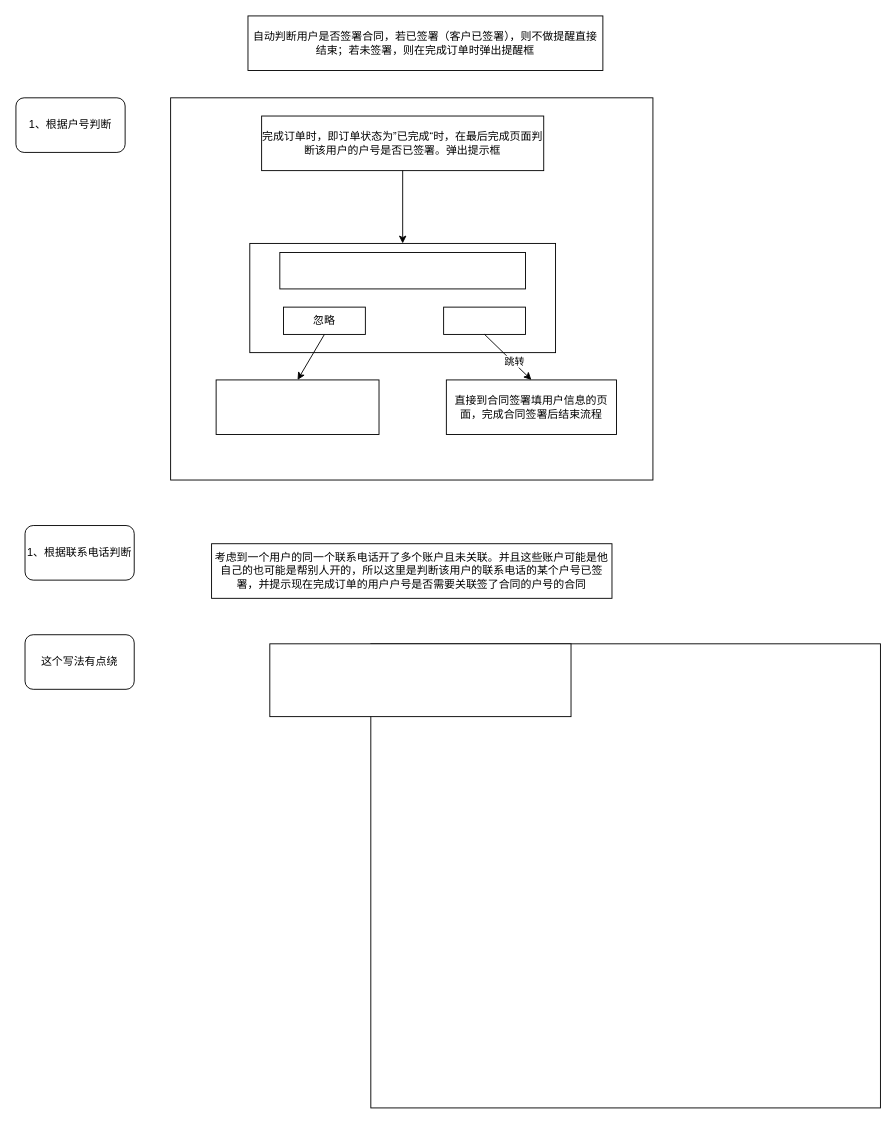
The diagram is 896 pixels wide and 1124 high, and some of its shapes have lost their labels. The centre of each missing label's shape, as x and y in pixels:
"新增合同" belongs at point (484, 320).
"该用户【户号】同一联系电话【用户名称+联系电话】" belongs at point (420, 680).
"该用户【户号】未签署供气合同 是否去签署？" belongs at point (402, 270).
"配送员可自行判断该用户是否已在其他账户实际签署合同，点”忽略“后结束流程" belongs at point (297, 407).
